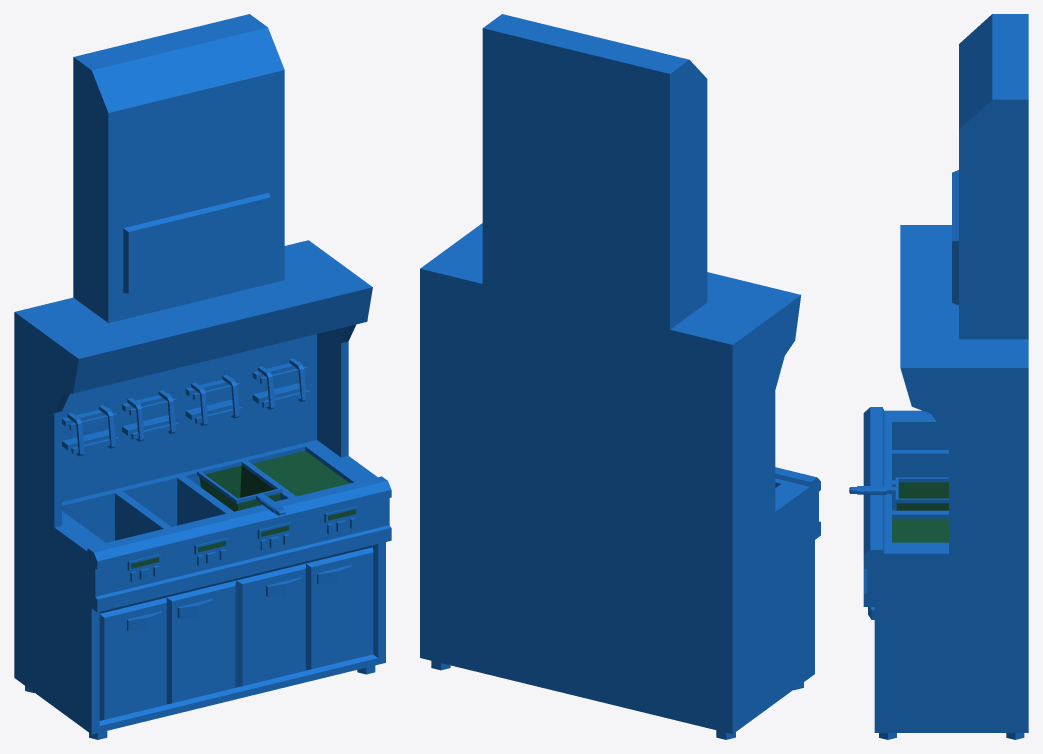
Rendered from T_deep_fryer.fbx.
3 views of the same model, side by side, from view 1: azimuth 30°, elevation 25°; view 2: azimuth 150°, elevation 25°; view 3: azimuth 270°, elevation 25° (orthographic). The views are drawn at different scales.
Parts seen in each view (by area): view 1: deep_fryer, Cube_2, Cube; view 2: deep_fryer; view 3: deep_fryer, Cube_2, Cube.
Boxes of the visible parts, x1,y1,x2,y2 form: deep_fryer: (14,14,391,739); Cube_2: (197,460,285,515); Cube: (252,450,349,496); deep_fryer: (420,14,820,739); deep_fryer: (863,14,1028,739); Cube_2: (849,477,948,510); Cube: (892,518,948,542).
Size of the model in its own units: 150 by 300 by 79.51.
